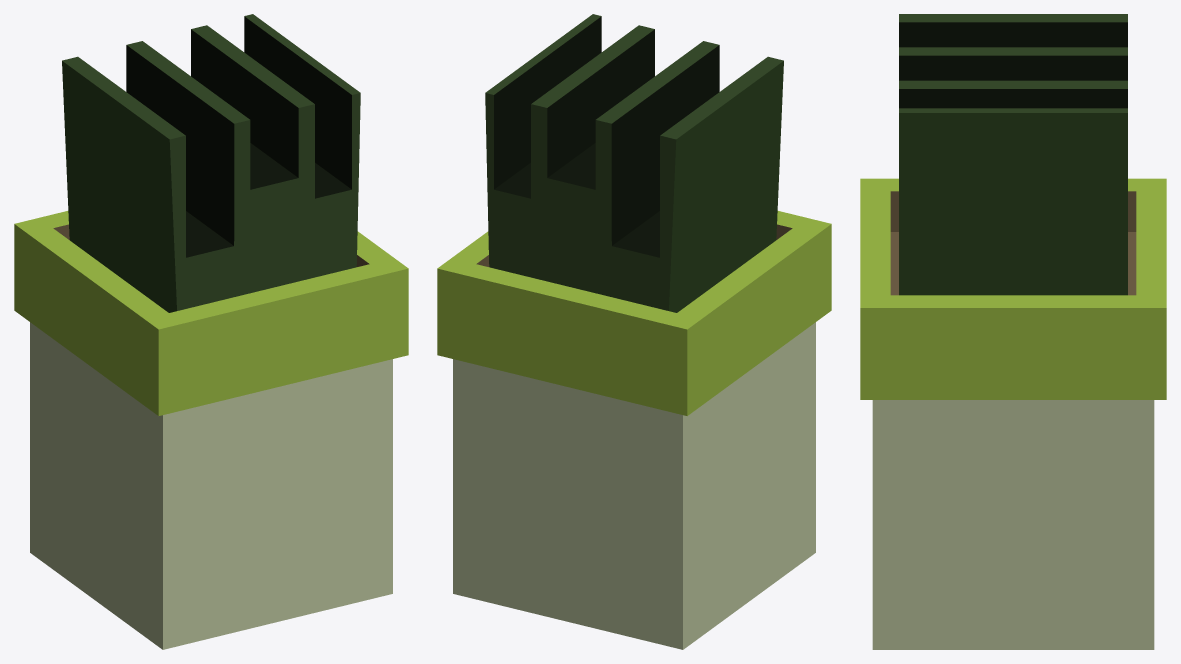
File: Potted_Plant.FBX
The picture shows the model from 3 angles, left to right: view 1: azimuth 30°, elevation 25°; view 2: azimuth 150°, elevation 25°; view 3: azimuth 270°, elevation 25°; orthographic projection. The views are drawn at different scales.
Visible parts, largest first — view 1: vase, plant; view 2: vase, plant; view 3: vase, plant.
Boxes of the visible parts, x1=… form: vase: x1=14, y1=211, x2=408, y2=649; plant: x1=62, y1=14, x2=360, y2=312; vase: x1=437, y1=211, x2=831, y2=649; plant: x1=485, y1=14, x2=783, y2=312; vase: x1=860, y1=178, x2=1166, y2=649; plant: x1=899, y1=14, x2=1127, y2=295.
Size of the model in its own units: 0.4 by 0.759 by 0.4.
